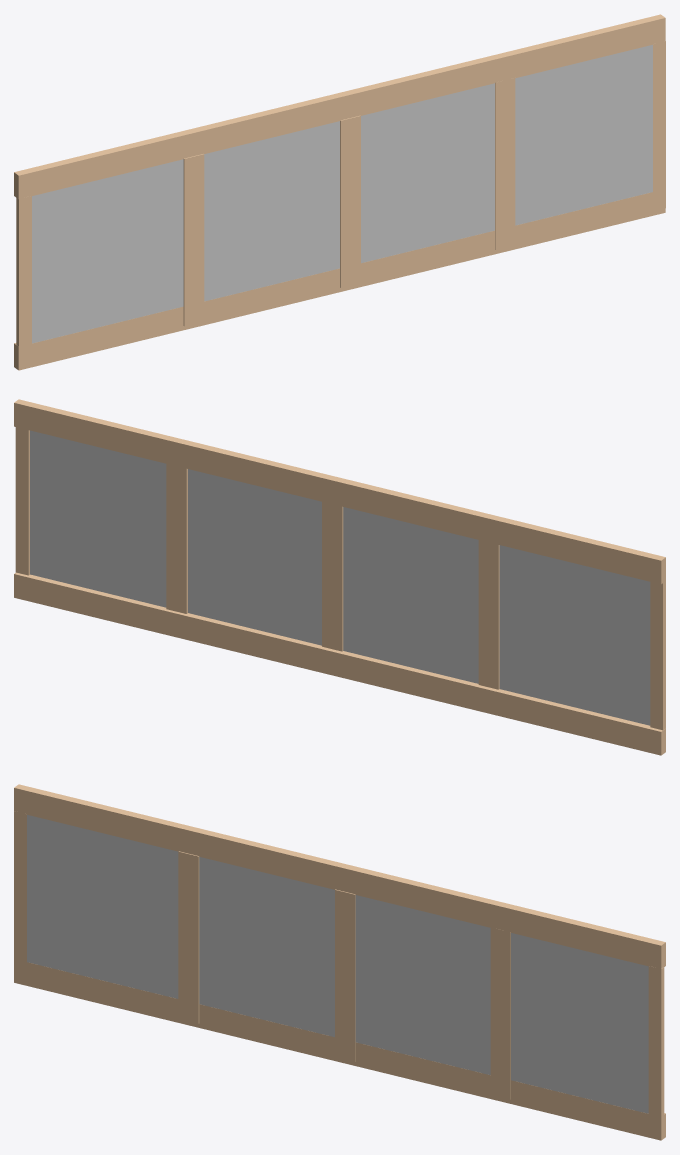
File: Dai.fbx
The picture shows the model from 3 angles, top to bottom: view 1: azimuth 30°, elevation 25°; view 2: azimuth 150°, elevation 25°; view 3: azimuth 330°, elevation 25°; orthographic projection.
Parts seen in each view (by area): view 1: Cube, Cube.031, Cube.001, Cube.002, Cube.026, Cube.029, Cube.004, Cube.003; view 2: Cube, Cube.031, Cube.001, Cube.029, Cube.026, Cube.002, Cube.004, Cube.003; view 3: Cube, Cube.031, Cube.001, Cube.002, Cube.026, Cube.029, Cube.003, Cube.004.
Part boxes in pixels (<box>): Cube: <box>32,45,652,343</box>; Cube.031: <box>14,14,665,199</box>; Cube.001: <box>14,192,665,370</box>; Cube.002: <box>183,154,204,326</box>; Cube.026: <box>340,115,360,287</box>; Cube.029: <box>495,78,515,249</box>; Cube.004: <box>16,196,31,365</box>; Cube.003: <box>653,41,665,211</box>; Cube: <box>30,430,650,725</box>; Cube.031: <box>14,399,665,584</box>; Cube.001: <box>14,572,665,755</box>; Cube.029: <box>166,464,187,613</box>; Cube.026: <box>322,501,343,651</box>; Cube.002: <box>478,540,499,689</box>; Cube.004: <box>650,581,665,730</box>; Cube.003: <box>15,427,29,575</box>; Cube: <box>27,815,648,1113</box>; Cube.031: <box>14,784,665,968</box>; Cube.001: <box>14,962,665,1140</box>; Cube.002: <box>178,851,199,1023</box>; Cube.026: <box>335,889,355,1061</box>; Cube.029: <box>490,927,510,1099</box>; Cube.003: <box>648,966,664,1136</box>; Cube.004: <box>14,811,26,981</box>.
Size of the model in its own units: 240 by 68.93 by 3.39.
